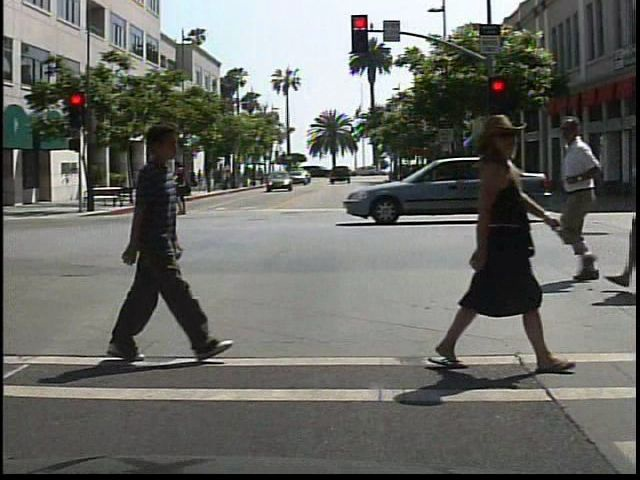person: (84, 121, 232, 364), (435, 111, 563, 373), (555, 110, 627, 294), (172, 157, 197, 218), (130, 164, 151, 210)
